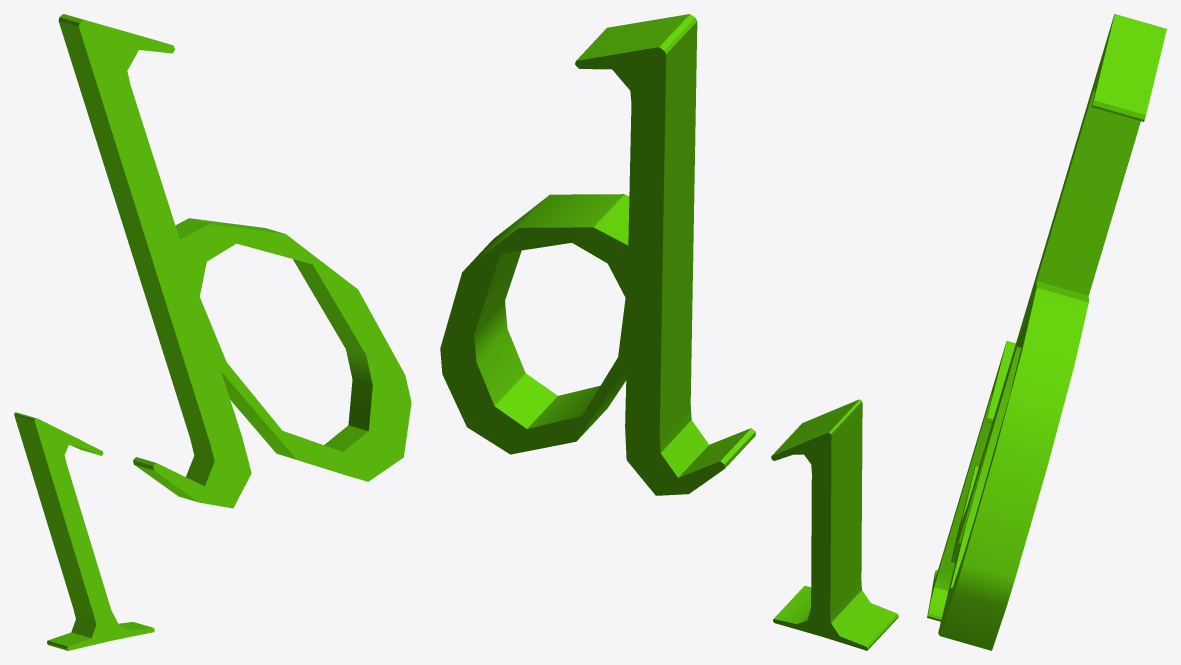
Rendered from d1_formula_B.fbx.
The picture shows the model from 3 angles, left to right: view 1: azimuth 30°, elevation 25°; view 2: azimuth 150°, elevation 25°; view 3: azimuth 270°, elevation 25°; orthographic projection. The views are drawn at different scales.
Parts seen in each view (by area): view 1: d1_formula_B; view 2: d1_formula_B; view 3: d1_formula_B.
Boxes of the visible parts, x1,y1,x2,y2 form: d1_formula_B: (14,14,411,650); d1_formula_B: (440,14,898,650); d1_formula_B: (927,14,1166,650).
Bounding box in the file's own units: 3.82 × 5.73 × 1.99.
